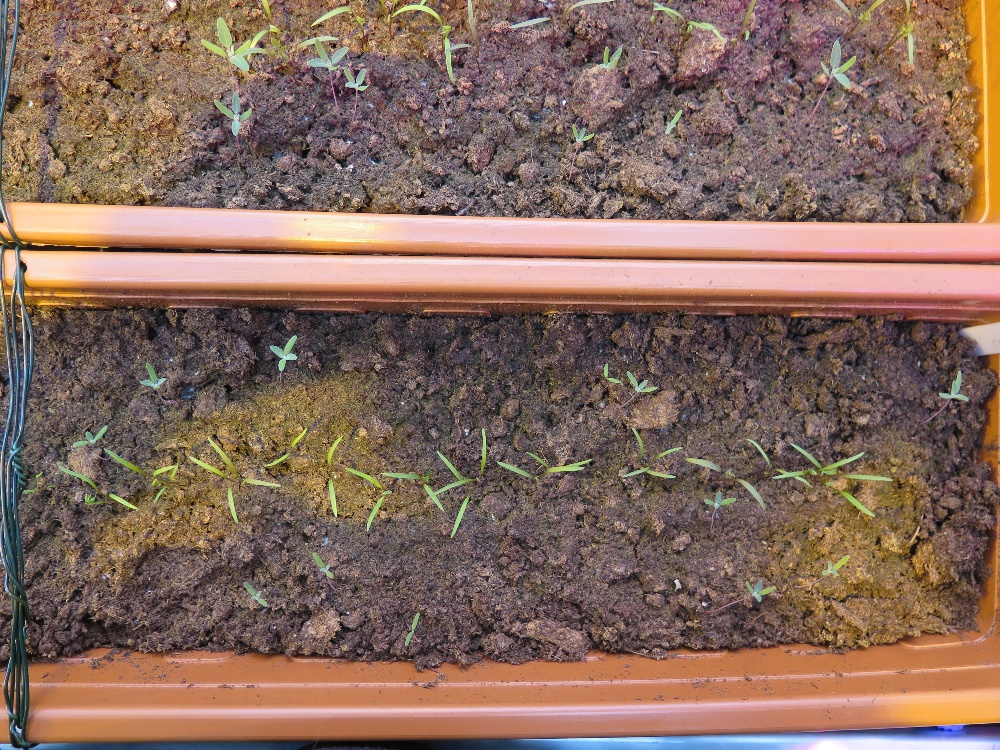crop: (759, 433, 898, 520), (152, 442, 287, 524), (291, 417, 391, 515), (412, 445, 496, 545), (71, 417, 168, 501), (57, 458, 162, 531), (323, 454, 412, 538), (471, 438, 591, 497), (391, 458, 480, 526), (680, 445, 764, 517), (616, 431, 702, 501), (262, 420, 321, 486)
weed: (196, 15, 302, 83), (300, 45, 373, 108), (425, 22, 491, 90), (552, 108, 614, 174), (810, 40, 873, 97), (212, 74, 268, 136), (400, 586, 441, 654), (582, 42, 637, 92), (607, 361, 655, 411), (221, 574, 277, 615), (734, 567, 780, 606), (932, 370, 971, 415), (821, 549, 862, 590), (298, 547, 348, 579), (137, 356, 173, 399), (271, 333, 307, 376)
